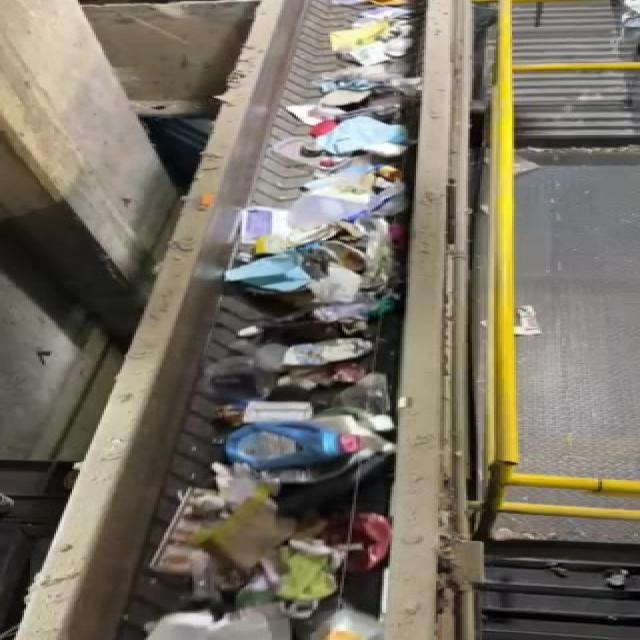hdpe: (202, 416, 392, 475)
paper: (165, 482, 285, 578)
pp: (332, 504, 396, 584)
